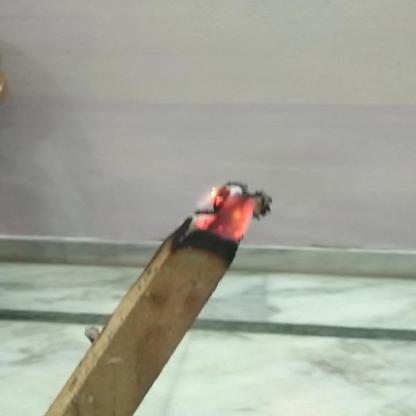fire: (191, 177, 263, 244)
